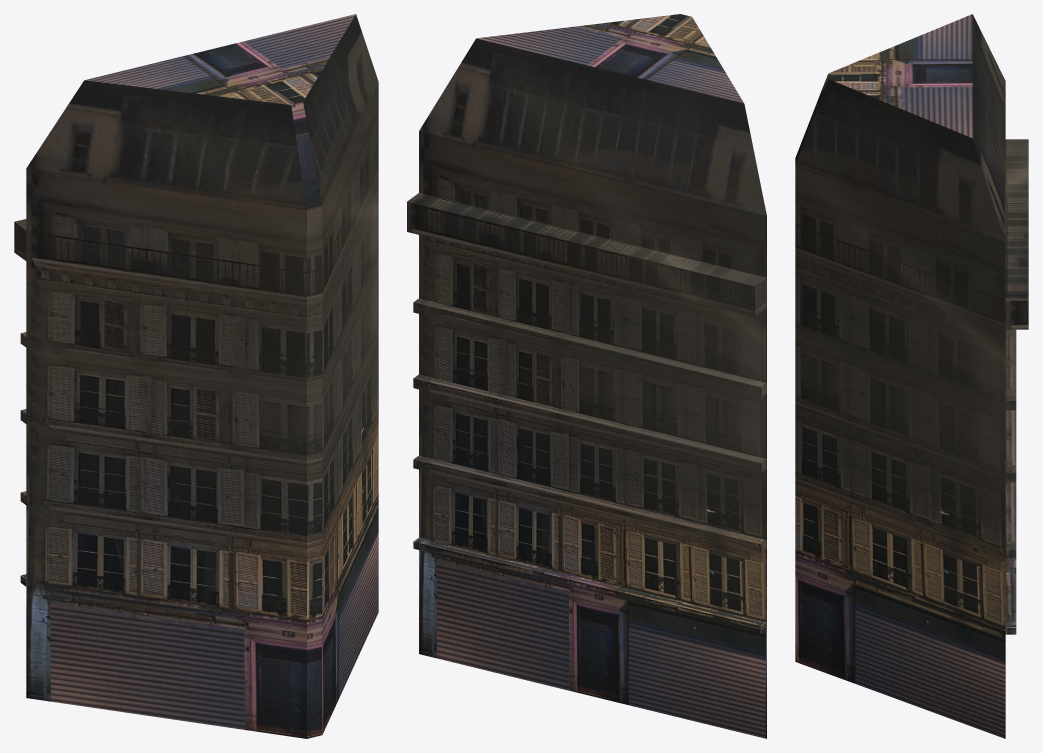
The model's file is Generic2.fbx.
The picture shows the model from 3 angles, left to right: view 1: azimuth 30°, elevation 25°; view 2: azimuth 150°, elevation 25°; view 3: azimuth 270°, elevation 25°; orthographic projection. The views are drawn at different scales.
Parts seen in each view (by area): view 1: Generic2; view 2: Generic2; view 3: Generic2.
Part boxes in pixels (x1,y1,x2,y2): Generic2: (14,14,378,738); Generic2: (407,14,766,738); Generic2: (795,14,1028,738).
Bounding box in the file's own units: 13.91 × 8.5 × 23.42.
1 material, 1 textured.
